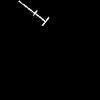double_crochet: (19, 1, 48, 24)
